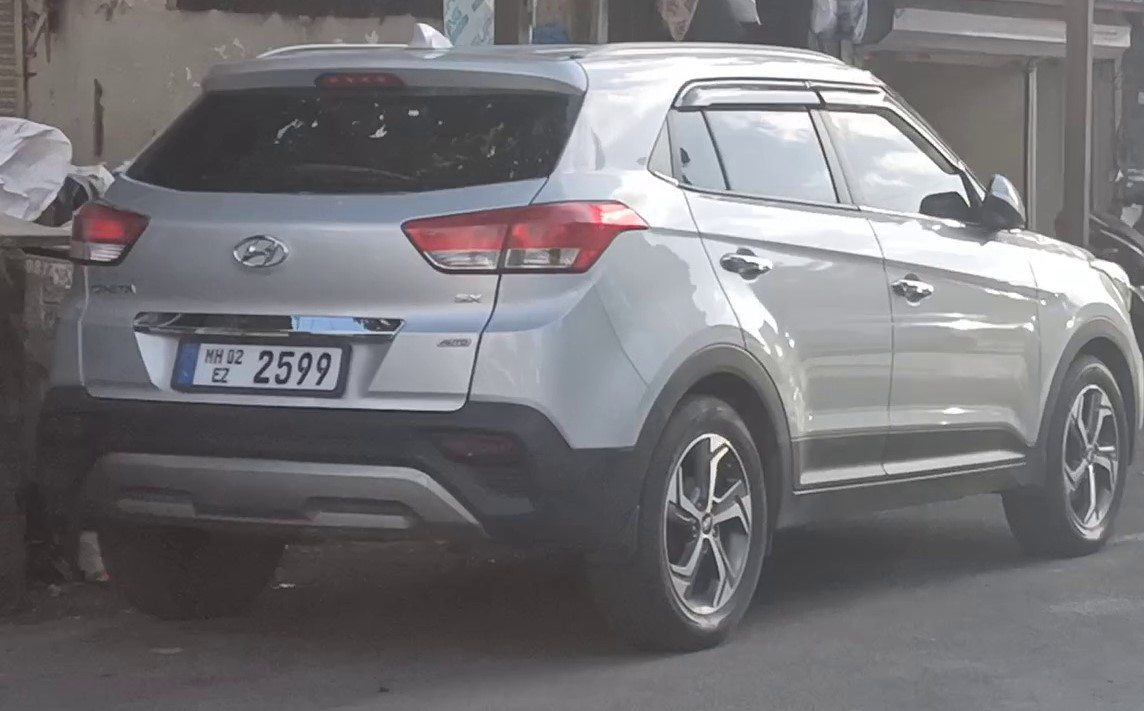MH02EZ2599: (175, 339, 342, 391)
